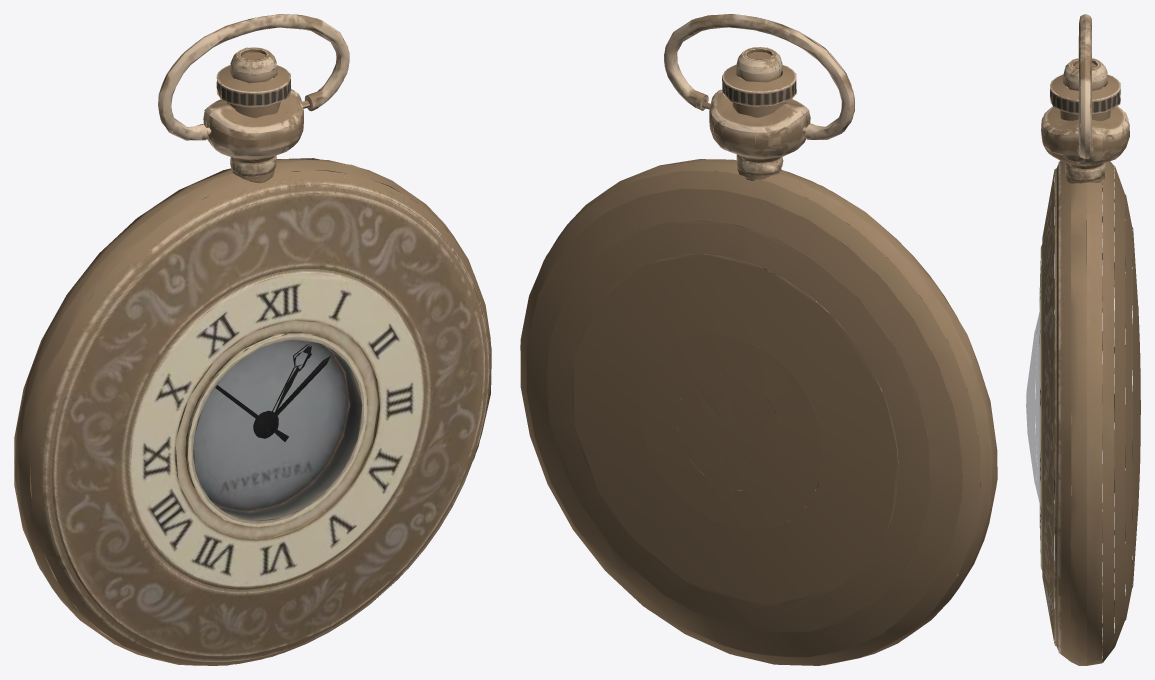
File: vintage_pocket_watch.glb
The picture shows the model from 3 angles, left to right: view 1: azimuth 30°, elevation 25°; view 2: azimuth 150°, elevation 25°; view 3: azimuth 270°, elevation 25°; orthographic projection. The views are drawn at different scales.
Parts seen in each view (by area): view 1: vintage_pocket_watch; view 2: vintage_pocket_watch; view 3: vintage_pocket_watch.
Boxes of the visible parts, x1,y1,x2,y2 form: vintage_pocket_watch: (14,14,491,665); vintage_pocket_watch: (520,14,997,665); vintage_pocket_watch: (1026,14,1140,665).
Bounding box in the file's own units: 0.0613 × 0.08 × 0.0136.
3 materials, 1 textured.
